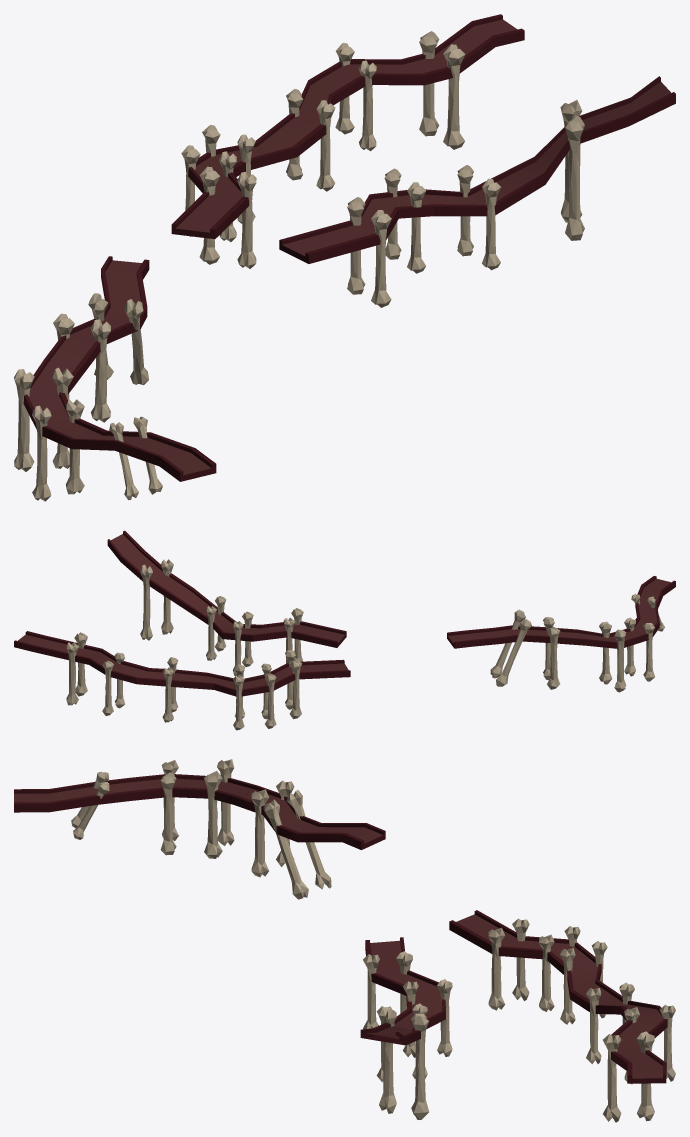
The model's file is most.fbx.
3 views of the same model, one above another, from view 1: azimuth 30°, elevation 25°; view 2: azimuth 150°, elevation 25°; view 3: azimuth 270°, elevation 25° (orthographic). The views are drawn at different scales.
Parts seen in each view (by area): view 1: Плоскость.005, Плоскость.004, Плоскость.006; view 2: Плоскость.005, Плоскость.006, Плоскость.004; view 3: Плоскость.004, Плоскость.005, Плоскость.006.
Part boxes in pixels (bbox=[...]): Плоскость.005: bbox=[171, 14, 524, 268]; Плоскость.004: bbox=[14, 256, 216, 501]; Плоскость.006: bbox=[279, 76, 675, 307]; Плоскость.005: bbox=[14, 631, 350, 730]; Плоскость.006: bbox=[107, 530, 346, 675]; Плоскость.004: bbox=[447, 576, 675, 692]; Плоскость.004: bbox=[14, 759, 385, 899]; Плоскость.005: bbox=[449, 910, 675, 1122]; Плоскость.006: bbox=[360, 937, 452, 1119].
Bounding box in the file's own units: 106 × 19.55 × 93.01.
